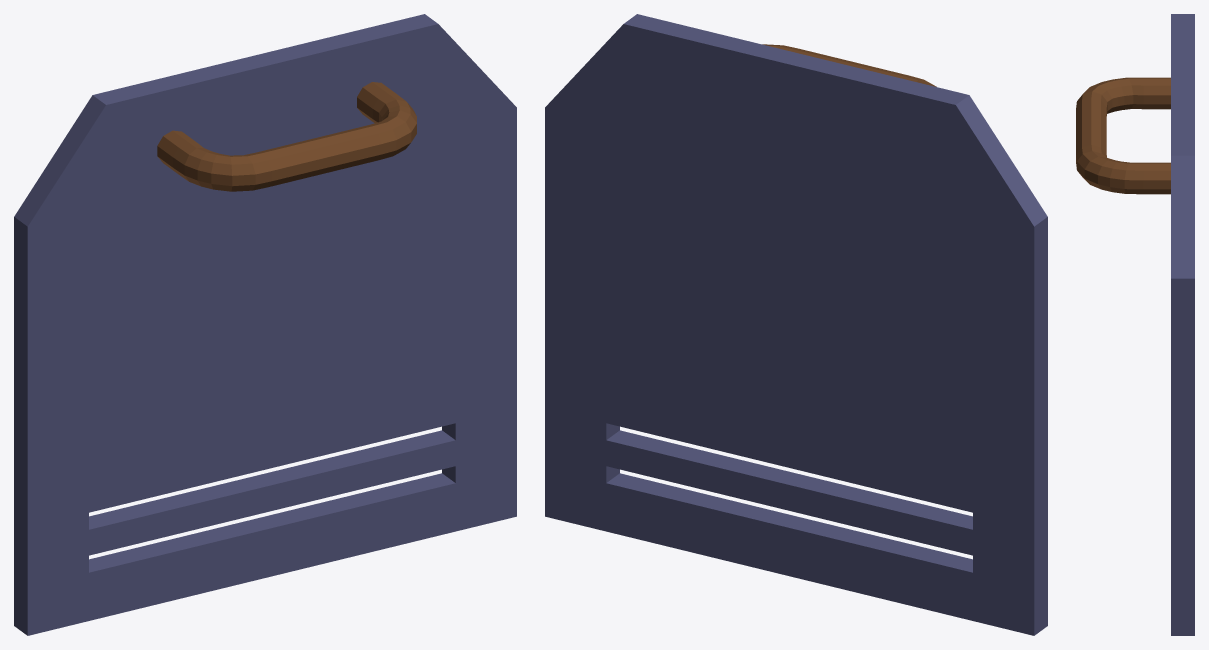
Rendered from PuertaHorno.fbx.
3 views of the same model, side by side, from view 1: azimuth 30°, elevation 25°; view 2: azimuth 150°, elevation 25°; view 3: azimuth 270°, elevation 25° (orthographic). The views are drawn at different scales.
Parts seen in each view (by area): view 1: PuertaHorno; view 2: PuertaHorno; view 3: PuertaHorno.
Boxes of the visible parts, bbox=[...] form: PuertaHorno: bbox=[14, 14, 516, 635]; PuertaHorno: bbox=[545, 14, 1047, 635]; PuertaHorno: bbox=[1076, 14, 1194, 635].
Size of the model in its own units: 600 by 144 by 600.
